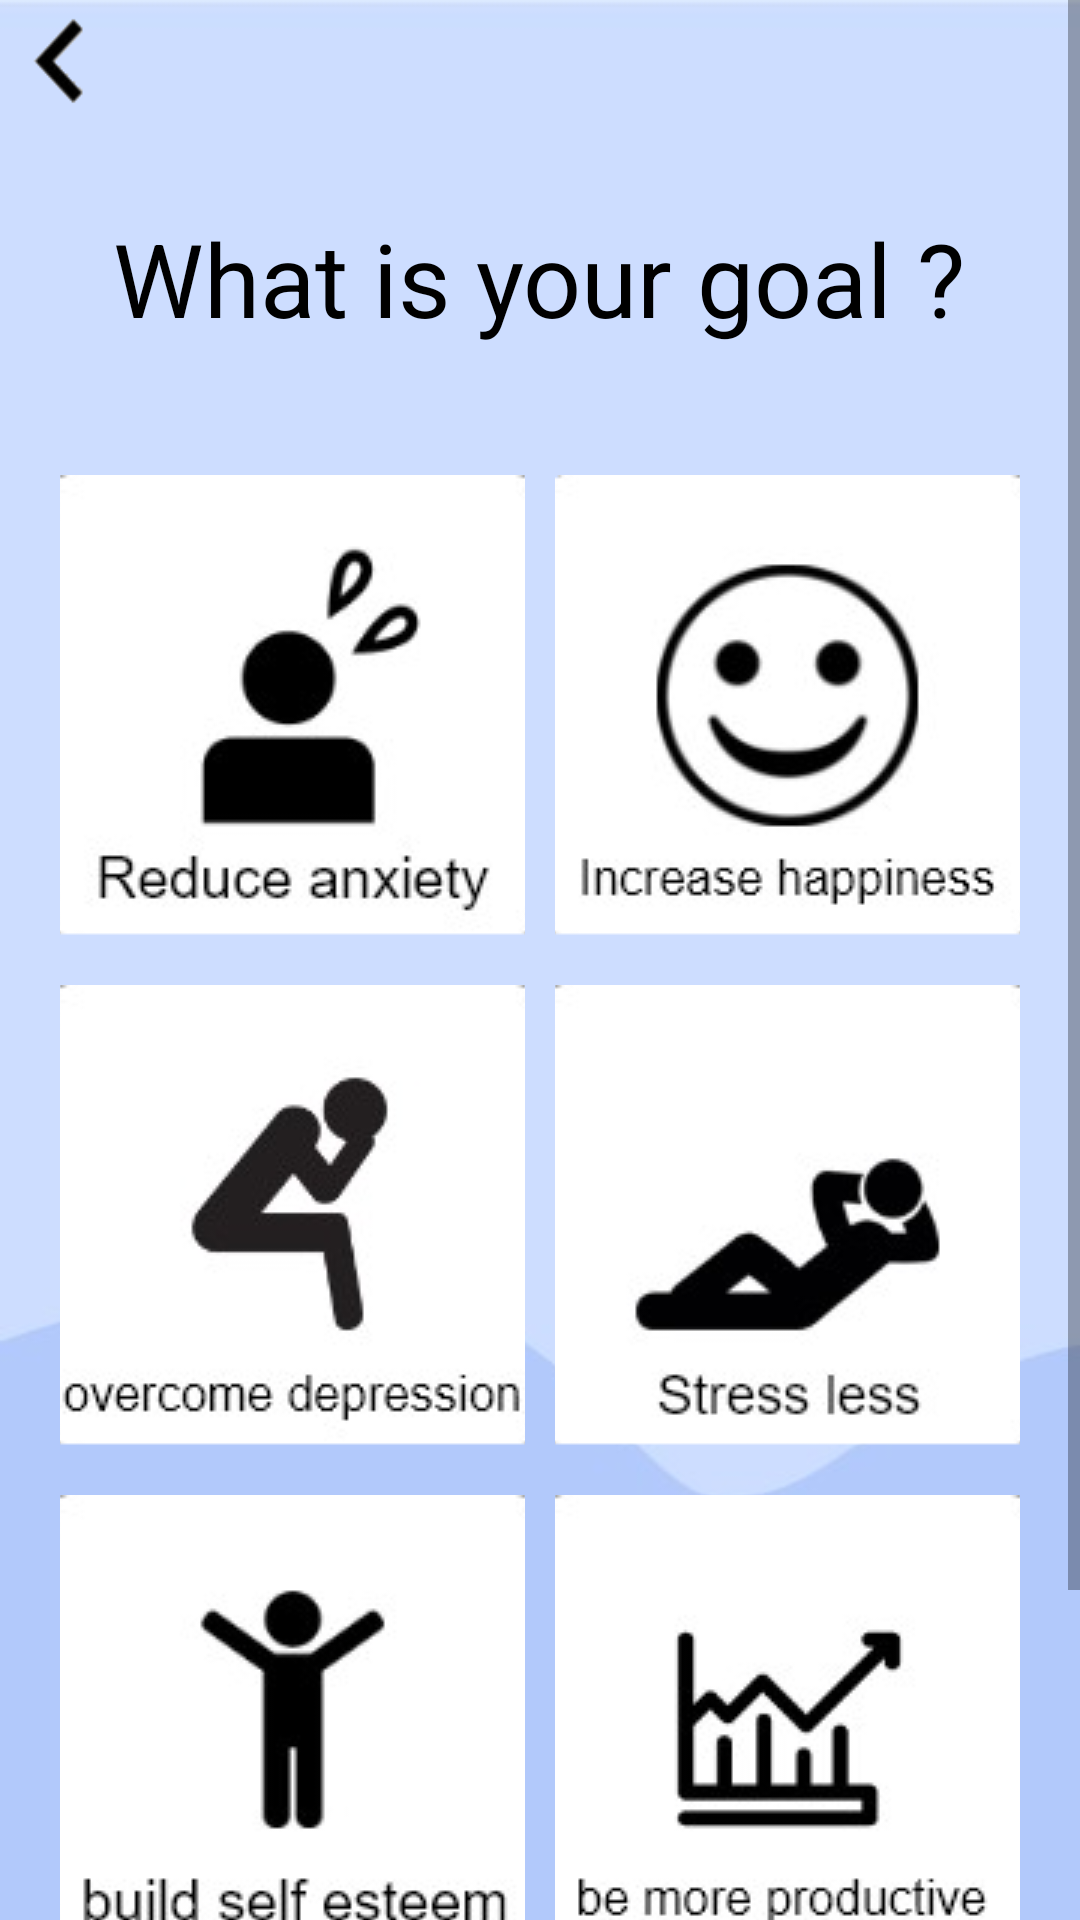

Locate icon controls on the screen. Image size 1080px×1920px, boxes as detection(x1, y1, x2, y2).
back arrow: detection(34, 19, 83, 103)
